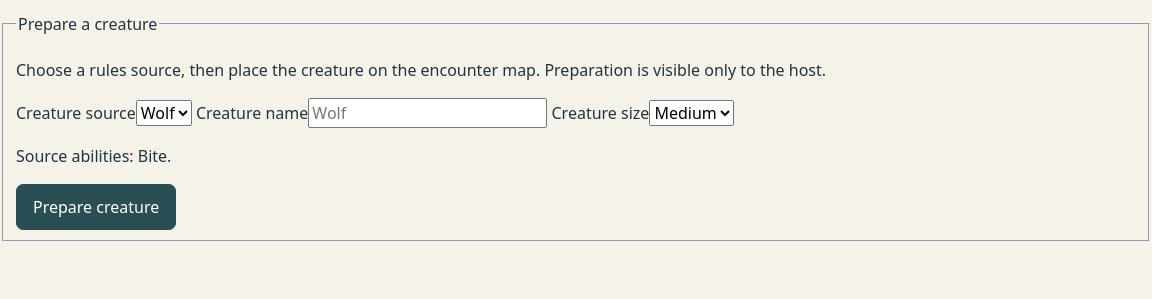
does not silently fill a historical picker pin for new creation
Click the button "Prepare creature": click(96, 207) [16, 184, 176, 230]
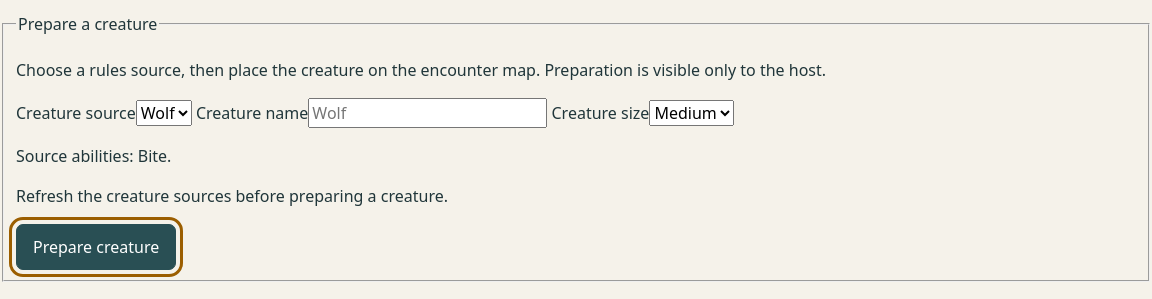
Expected: the message shows "Refresh the creature sources", [16, 185, 448, 207]
